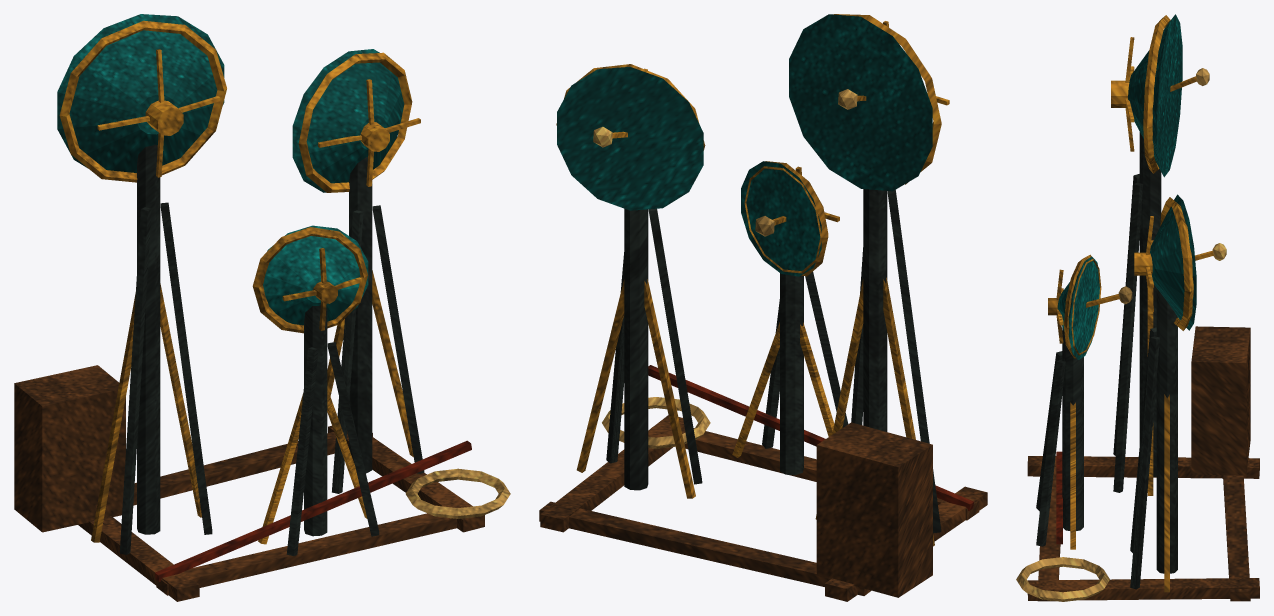
Rendered from west-ridge-dish-cluster.glb.
3 renders of one model, left to right at view 1: azimuth 30°, elevation 25°; view 2: azimuth 150°, elevation 25°; view 3: azimuth 270°, elevation 25°, orthographic. The views are drawn at different scales.
Visible parts, largest first — view 1: west-ridge-dish-cluster; view 2: west-ridge-dish-cluster; view 3: west-ridge-dish-cluster.
Part boxes in pixels (x1=…): west-ridge-dish-cluster: x1=14, y1=14, x2=510, y2=601; west-ridge-dish-cluster: x1=539, y1=14, x2=987, y2=601; west-ridge-dish-cluster: x1=1016, y1=14, x2=1259, y2=601.
Bounding box in the file's own units: 5.94 × 7.62 × 3.63.
Materials: 1 (1 with a texture image).
